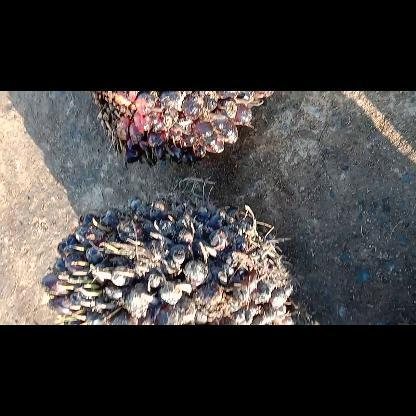TBS mentah: (42, 190, 308, 324), (88, 90, 278, 170)
